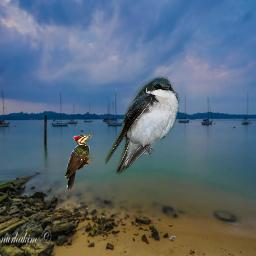Swallow: (105, 74, 181, 175)
Woodpecker: (64, 132, 95, 191)
